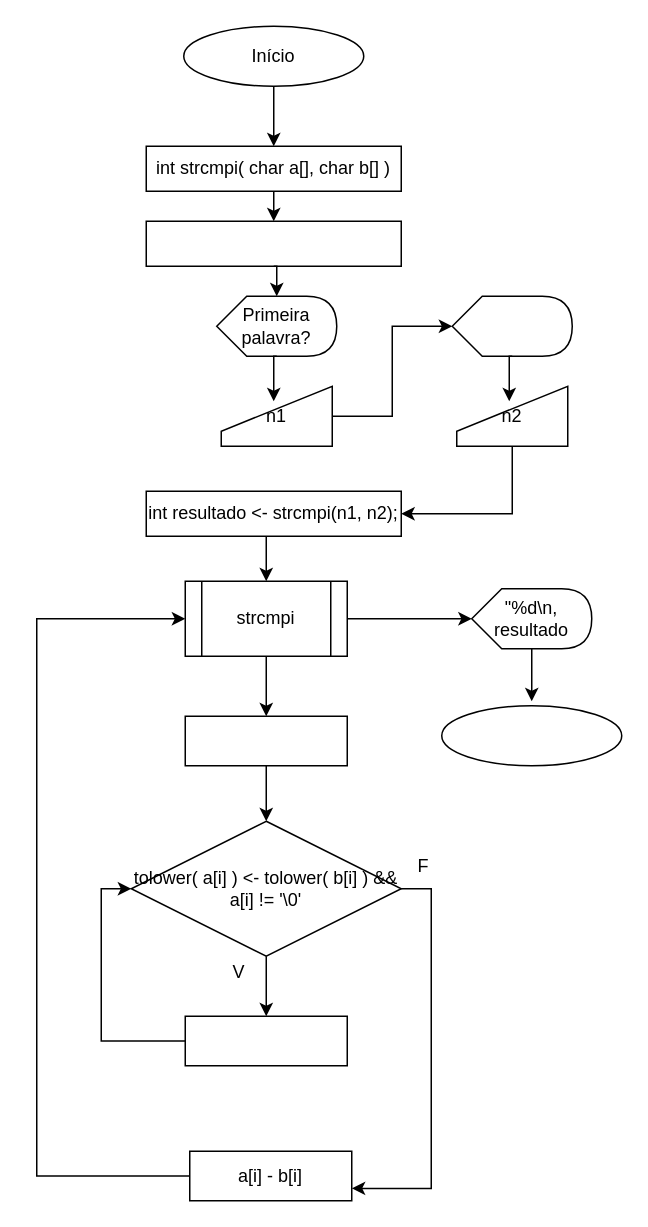
Some shapes in this 648 by 1227 pixel diagram are drawn without their labels. The shapes that lost their labels are listed below. From the top down, each one's centre as x and y in pixels, then its label:
At pixel 273 243: "char n1[128], n2[128];".
At pixel 511 325: "Segunda palavra?".
At pixel 265 740: "int i <- 0".
At pixel 531 735: "Fim".
At pixel 265 1040: "i++".
